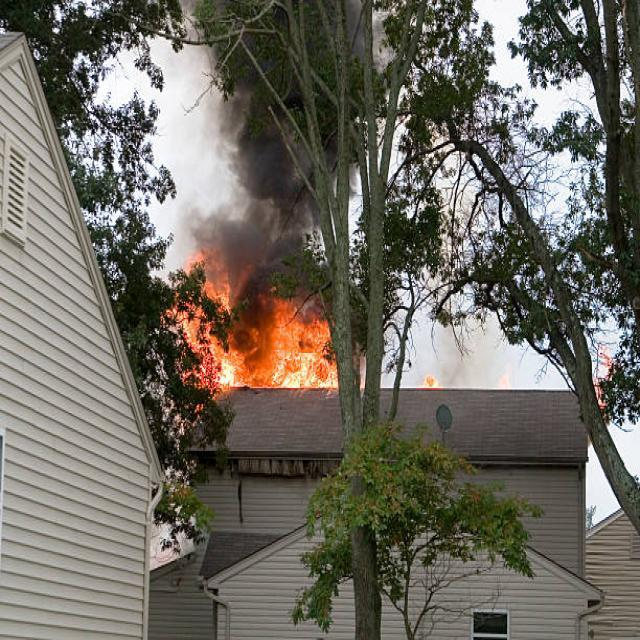Fire: (172, 255, 344, 392)
Smoke: (206, 84, 333, 310)
